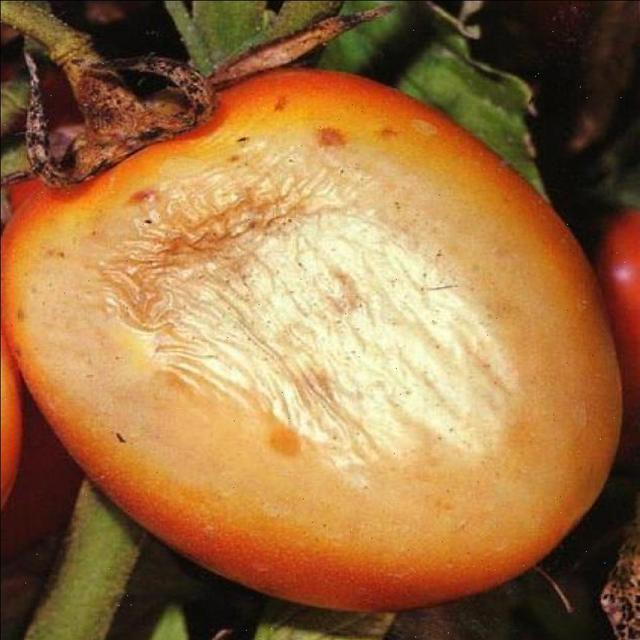Sunscald Fruit: (82, 83, 348, 375)
